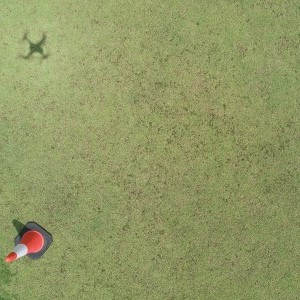traffic cone: (5, 221, 52, 262)
